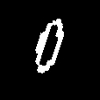chain: (35, 19, 63, 72)
